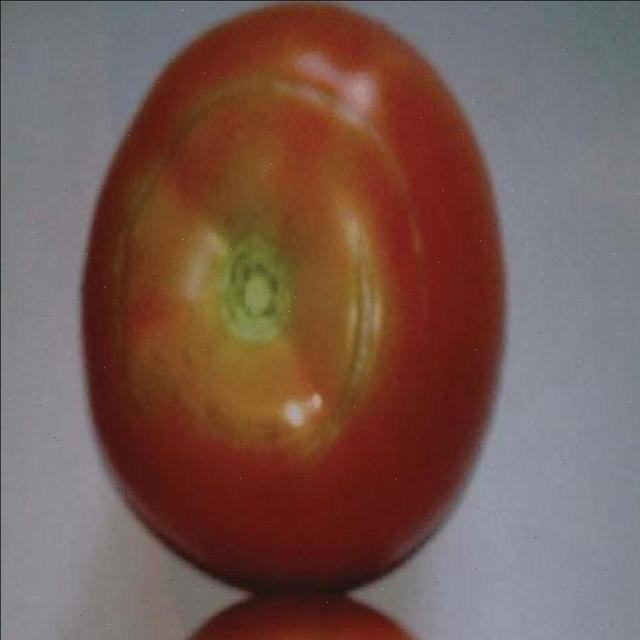Cracking Fruit: (62, 114, 234, 261)
